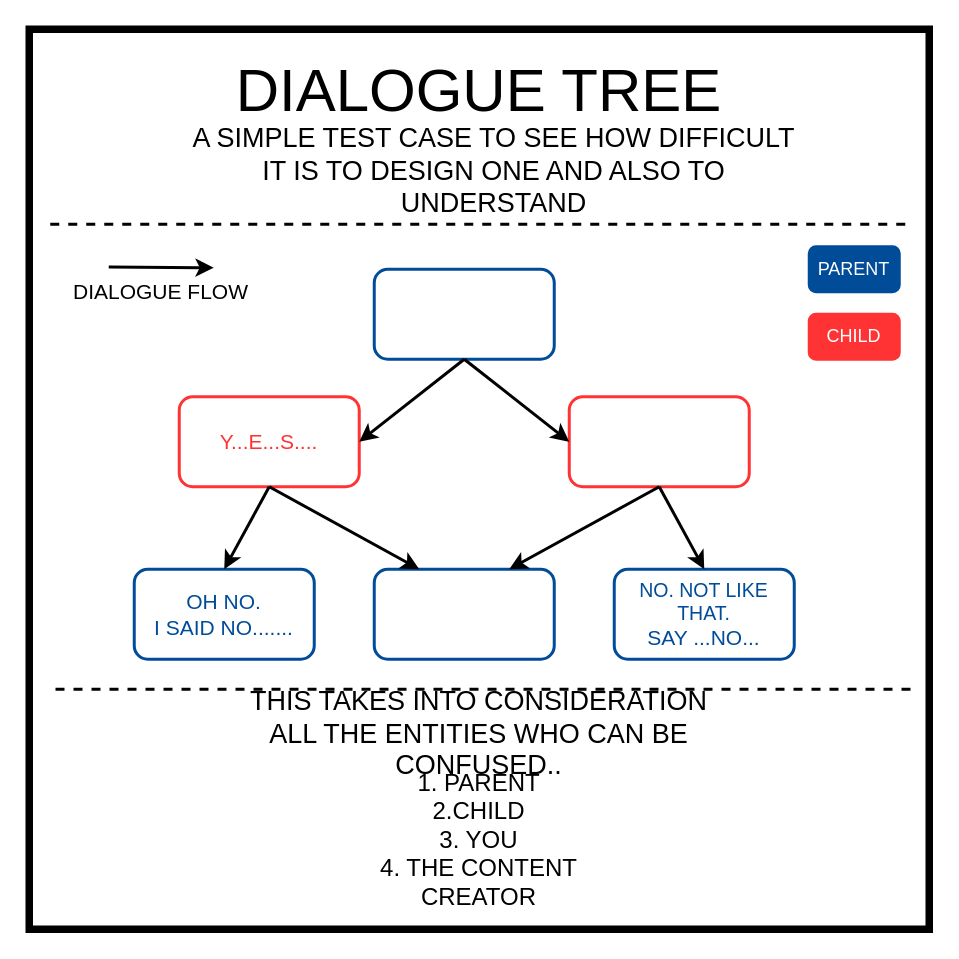
The diagram is 959 pixels wide and 959 high, and some of its shapes have lost their labels. Here are the shapes that lost their labels. From the top down, the box of each, then its label:
(372, 267, 555, 360): TRY SAYING NO..... .....NO.....
(567, 394, 750, 488): N...O....
(372, 567, 555, 660): YES. NOW SAY ....NO....(AGAIN)
